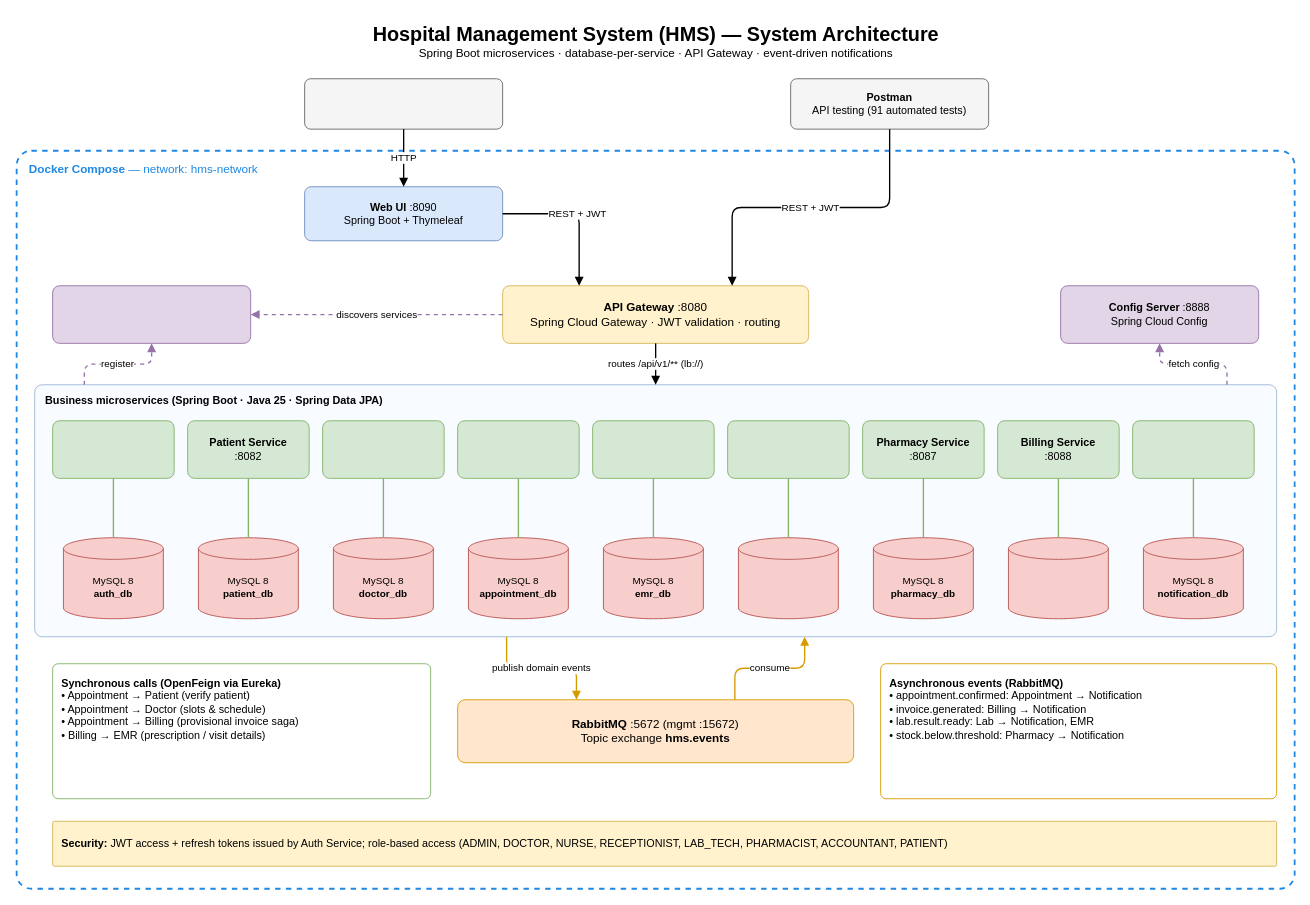
Image size: 1310x905. Some labels were removed from this diagram. The centre of each missing label's shape, as x and y in pixels:
"Appointment Service :8084" belongs at pixel 518 449.
"Auth Service :8081" belongs at pixel 113 449.
"Browser Patients · Doctors · Nurses · Staff" belongs at pixel 403 103.
"Doctor Service :8083" belongs at pixel 383 449.
"EMR Service :8085" belongs at pixel 653 449.
"Lab Service :8086" belongs at pixel 788 449.
"MySQL 8 billing_db" belongs at pixel 1058 578.
"MySQL 8 lab_db" belongs at pixel 788 578.
"Notification Service :8089" belongs at pixel 1193 449.
"Service Registry :8761 Netflix Eureka (discovery)" belongs at pixel 151 314.
